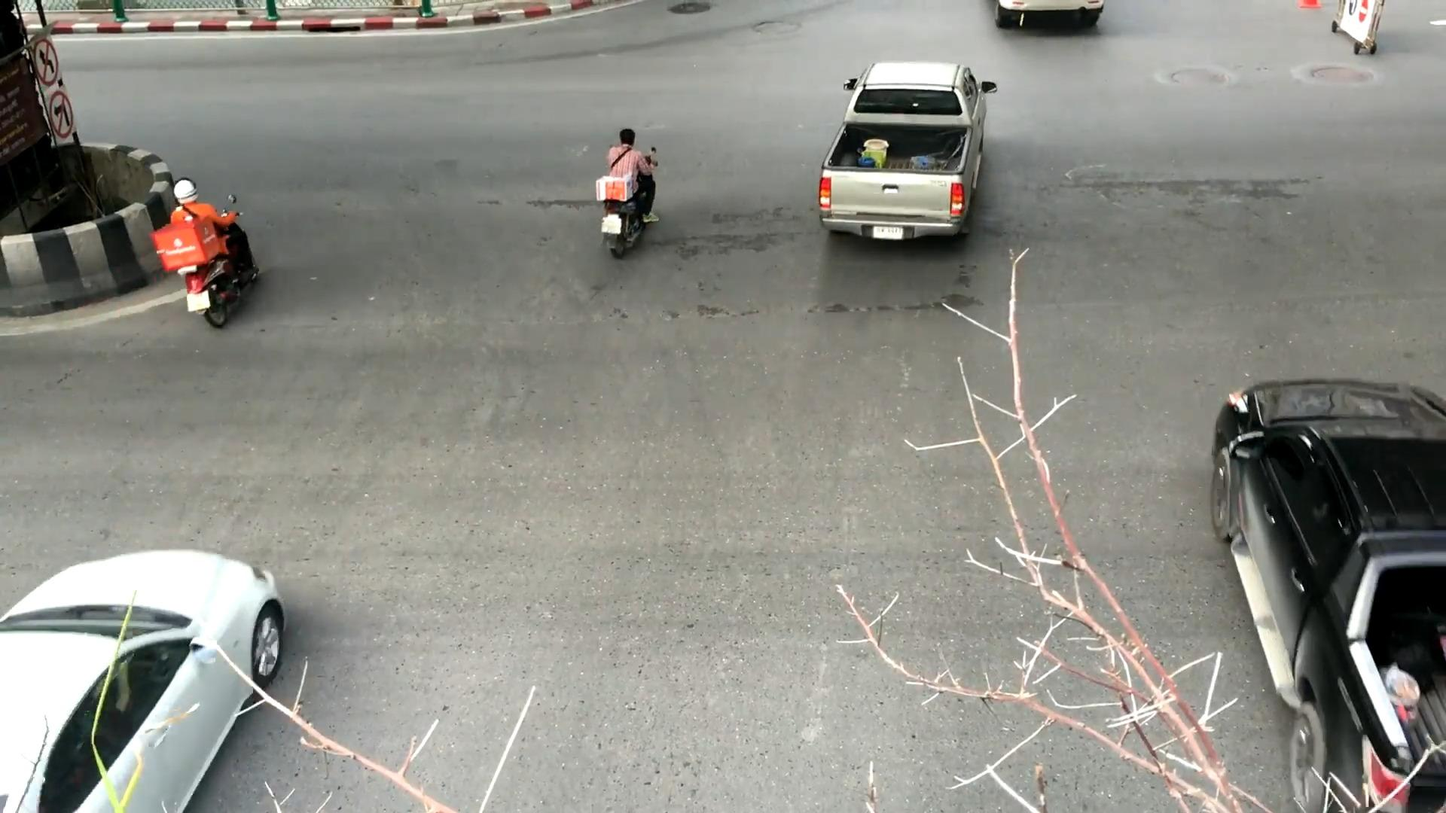driver: (149, 177, 259, 329), (596, 128, 660, 260)
helmet: (173, 177, 198, 205)
no-helmet: (619, 128, 635, 147)
